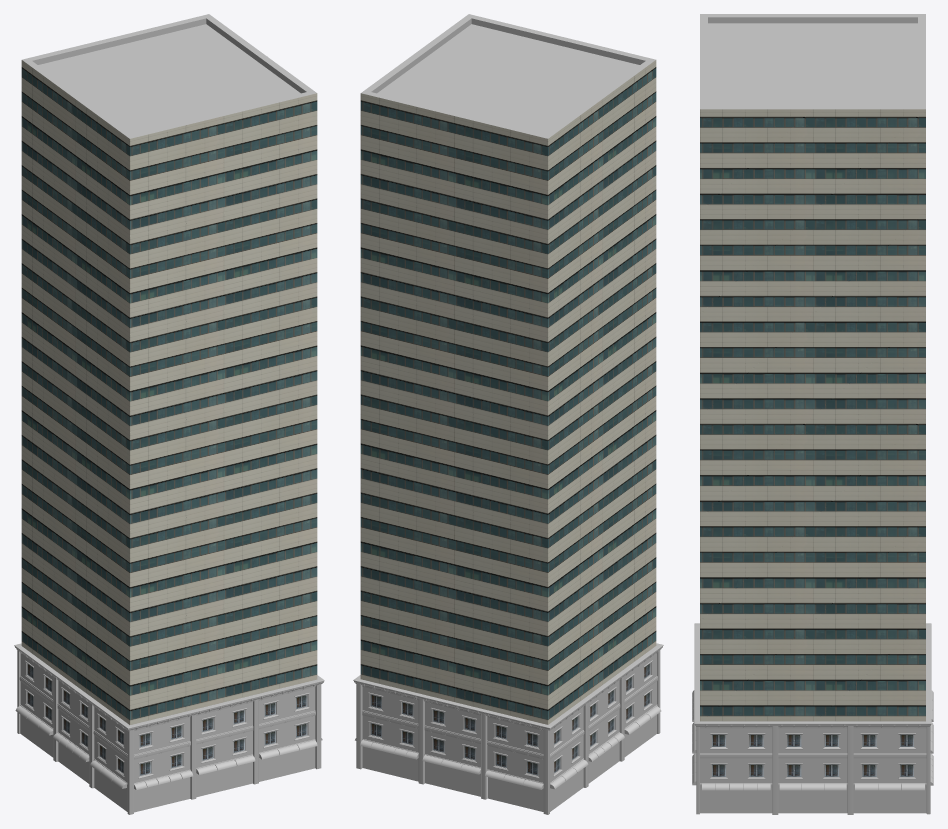
The model's file is High RIse Building 27.fbx.
The picture shows the model from 3 angles, left to right: view 1: azimuth 30°, elevation 25°; view 2: azimuth 150°, elevation 25°; view 3: azimuth 270°, elevation 25°; orthographic projection. The views are drawn at different scales.
Visible parts, largest first — view 1: Top, Part_3, Part_4, Part_5, Part_2, Part_1, Base; view 2: Top, Part_2, Part_3, Part_4, Part_5, Part_1, Base; view 3: Top, Base, Part_2, Part_3, Part_4, Part_5, Part_1.
Boxes of the visible parts, box(x1,y1,x2,y2) form: Top: box(21, 14, 317, 236); Part_3: box(21, 354, 317, 530); Part_4: box(21, 256, 317, 432); Part_5: box(21, 158, 317, 334); Part_2: box(21, 452, 317, 628); Part_1: box(21, 550, 317, 724); Base: box(14, 643, 324, 814); Top: box(360, 14, 656, 236); Part_2: box(360, 452, 656, 628); Part_3: box(360, 354, 656, 530); Part_4: box(360, 256, 656, 432); Part_5: box(360, 158, 656, 334); Part_1: box(360, 550, 656, 724); Base: box(353, 643, 663, 814); Top: box(700, 14, 925, 211); Base: box(692, 623, 933, 814); Part_2: box(700, 518, 925, 620); Part_3: box(700, 416, 925, 518); Part_4: box(700, 314, 925, 416); Part_5: box(700, 211, 925, 313); Part_1: box(700, 621, 925, 721).
Size of the model in its own units: 2563 by 8250 by 2565.
